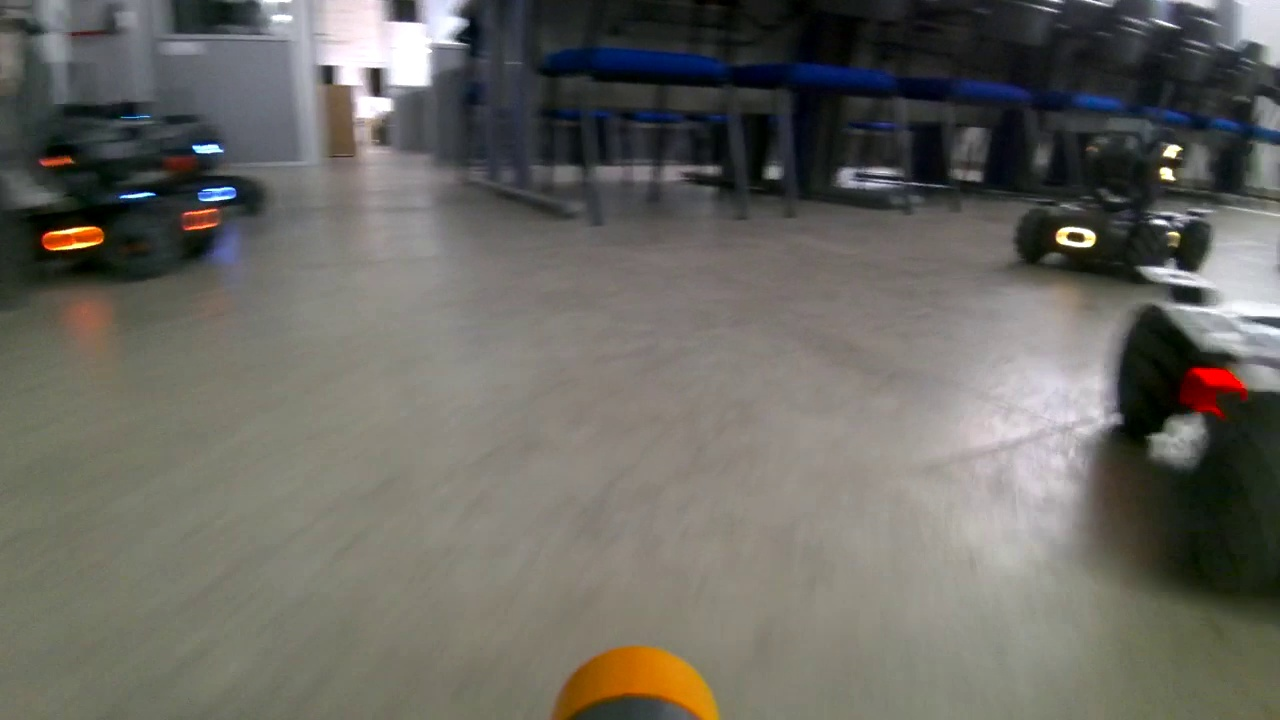robot: (995, 81, 1222, 293), (3, 98, 224, 282)
